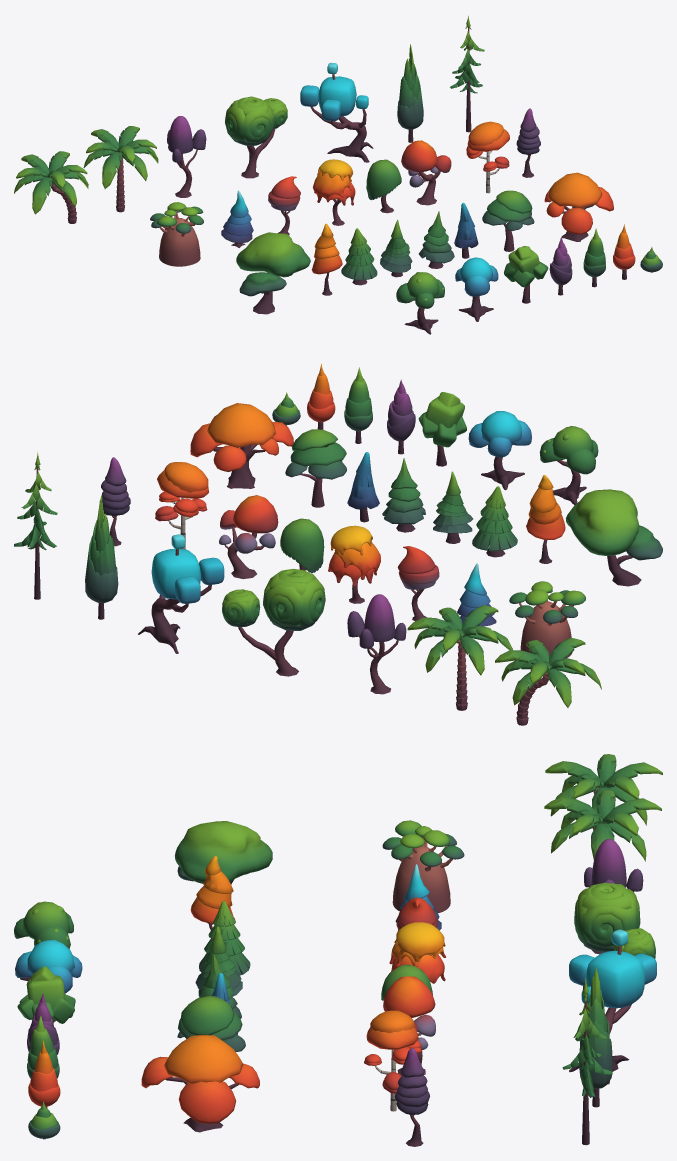
File: Trees.fbx
3 renders of one model, top to bottom at view 1: azimuth 30°, elevation 25°; view 2: azimuth 150°, elevation 25°; view 3: azimuth 270°, elevation 25°, orthographic. The views are drawn at different scales.
Visible parts, largest first — view 1: 026_0_26, 023_0_23, 022_0_22, 005_0_5, 028_0_28, 029_0_29, 027_0_27, 018_0_18, 006_0_6, 016_0_16, 012_0_12, 020_0_20 (+17 smaller); view 2: 022_0_22, 026_0_26, 005_0_5, 023_0_23, 028_0_28, 029_0_29, 027_0_27, 018_0_18, 006_0_6, 020_0_20, 021_0_21, 011_0_11 (+18 smaller); view 3: 005_0_5, 026_0_26, 023_0_23, 022_0_22, 027_0_27, 028_0_28, 029_0_29, 020_0_20, 016_0_16, 006_0_6, 018_0_18, 025_0_25 (+17 smaller).
Part boxes in pixels (x1,y1,x2,y2): 026_0_26: (236, 232, 310, 314); 023_0_23: (300, 62, 373, 162); 022_0_22: (225, 96, 287, 178); 005_0_5: (544, 172, 613, 241); 028_0_28: (83, 126, 158, 212); 029_0_29: (14, 151, 88, 223); 027_0_27: (150, 202, 203, 266); 018_0_18: (401, 140, 451, 205); 006_0_6: (482, 190, 534, 251); 016_0_16: (312, 159, 355, 225); 012_0_12: (396, 272, 444, 334); 020_0_20: (466, 121, 509, 193); 022_0_22: (222, 568, 325, 676); 026_0_26: (565, 489, 662, 586); 005_0_5: (190, 403, 293, 488); 023_0_23: (138, 534, 224, 653); 028_0_28: (407, 605, 512, 710); 029_0_29: (495, 637, 601, 725); 027_0_27: (509, 581, 585, 658); 018_0_18: (219, 495, 278, 579); 006_0_6: (285, 429, 346, 507); 020_0_20: (155, 462, 208, 549); 021_0_21: (347, 594, 406, 694); 011_0_11: (468, 411, 531, 490); 005_0_5: (141, 1034, 259, 1132); 026_0_26: (175, 821, 272, 884); 023_0_23: (569, 929, 656, 1084); 022_0_22: (574, 882, 655, 958); 027_0_27: (382, 820, 464, 913); 028_0_28: (544, 790, 661, 861); 029_0_29: (545, 754, 662, 825); 020_0_20: (364, 1010, 421, 1111); 016_0_16: (389, 922, 445, 983); 006_0_6: (177, 996, 245, 1051); 018_0_18: (383, 976, 435, 1075); 025_0_25: (562, 977, 612, 1145).
Size of the model in its own units: 4670 by 1157 by 4016.
Materials: 1 (1 with a texture image).
